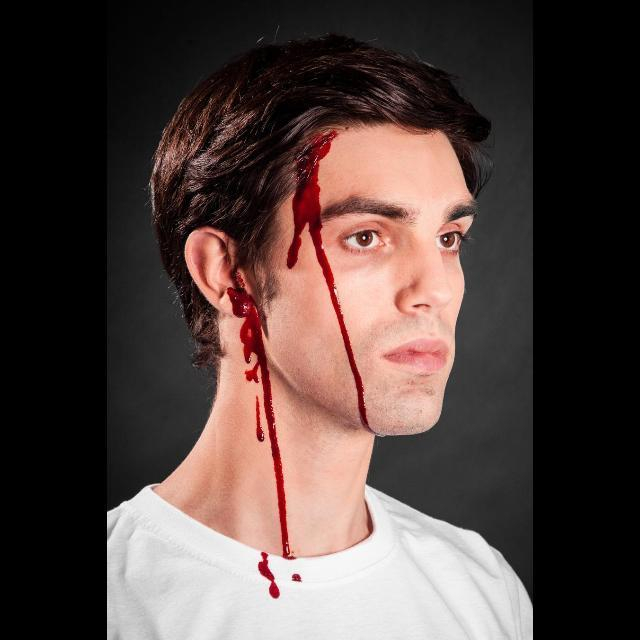blood: (287, 130, 377, 435), (227, 274, 294, 561), (258, 553, 280, 600), (256, 396, 264, 443), (292, 575, 301, 583)
